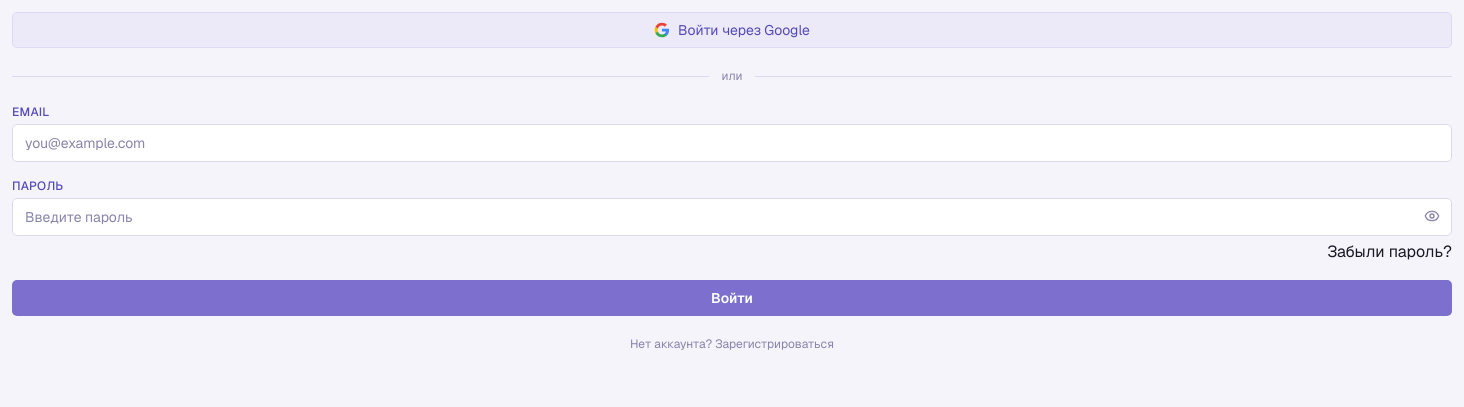
Scenario: LoginForm › shows validation error when submitting empty form
The image size is (1464, 407).
Click the button "Войти" at (732, 298), box top-left (12, 280), bottom-right (1452, 316)
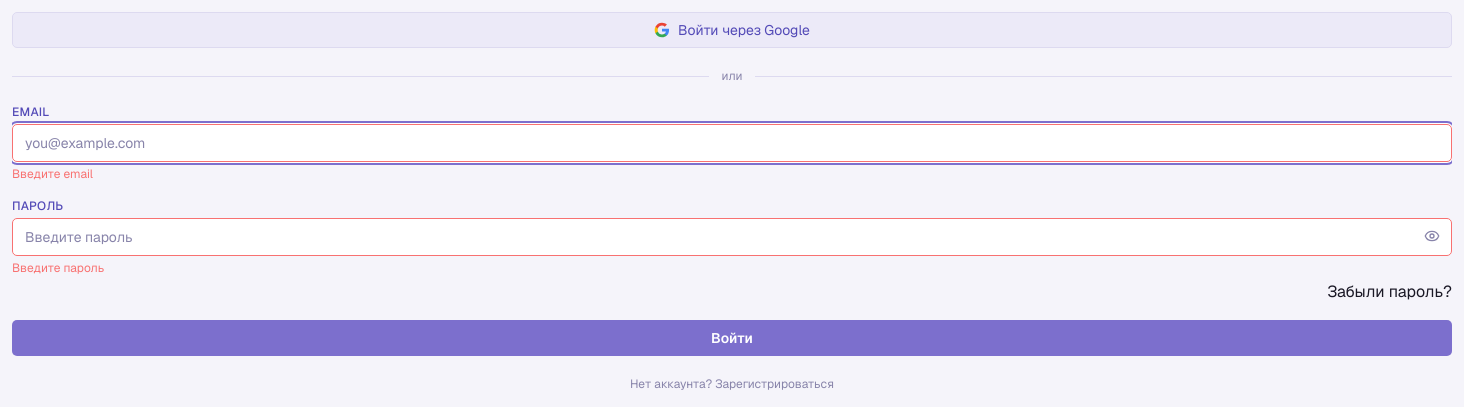
Check: the text "Введите email" is shown, box top-left (12, 166), bottom-right (93, 182)
